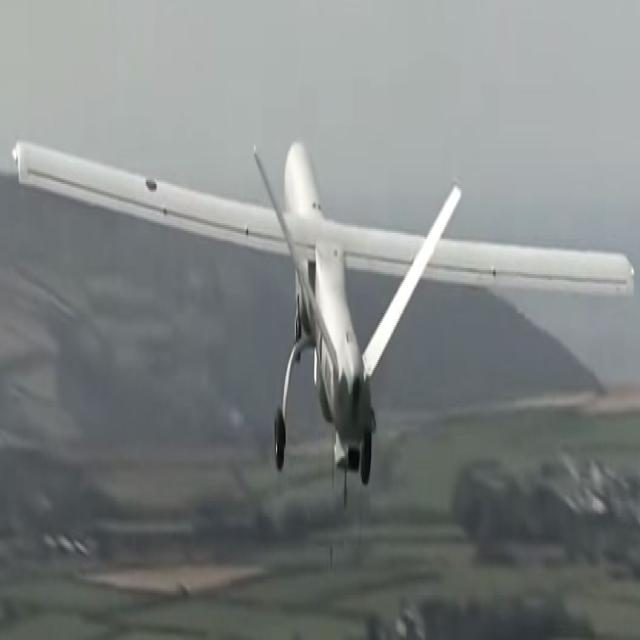iha: (10, 135, 635, 509)
